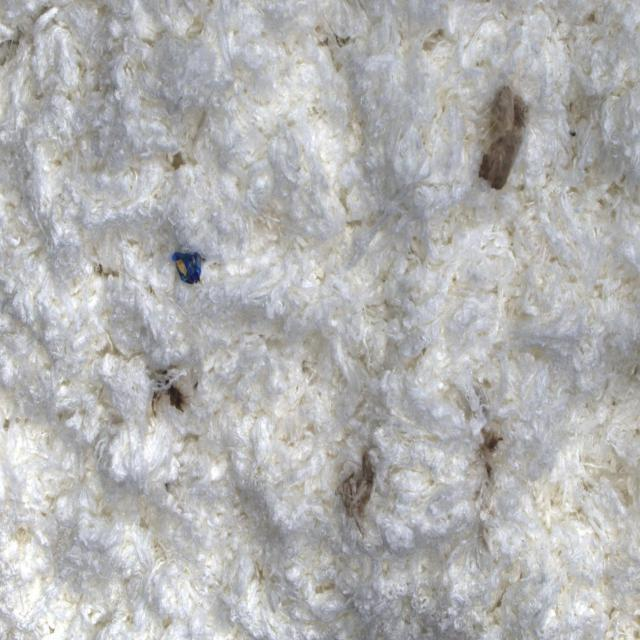dust: (476, 70, 531, 194), (338, 446, 377, 537), (471, 419, 508, 510), (149, 363, 194, 429), (171, 247, 208, 292)
